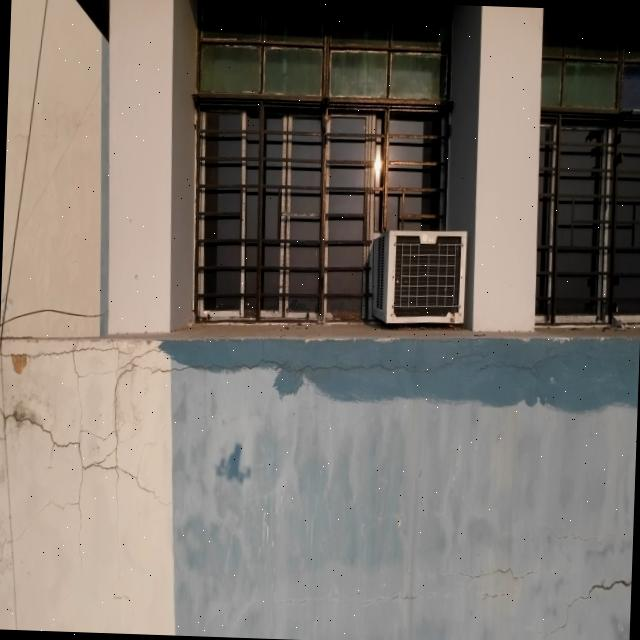Crack: (3, 335, 556, 549), (3, 337, 115, 367)
